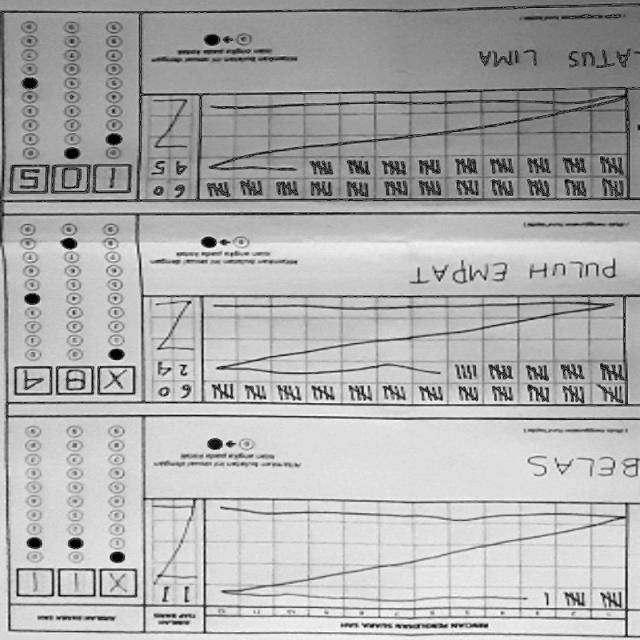Suara: (13, 364, 142, 402), (8, 165, 135, 201), (15, 567, 142, 601)
